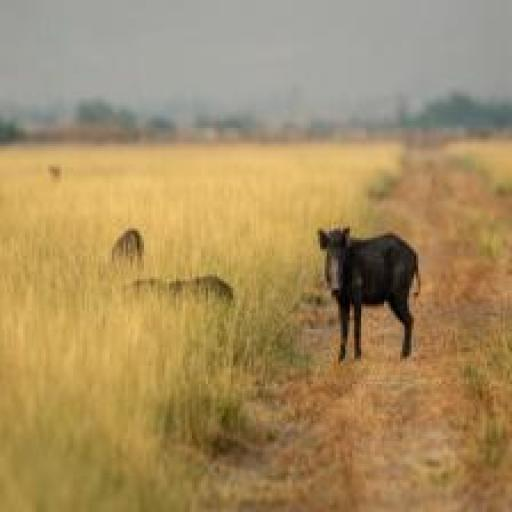Pig: (318, 226, 424, 365)
